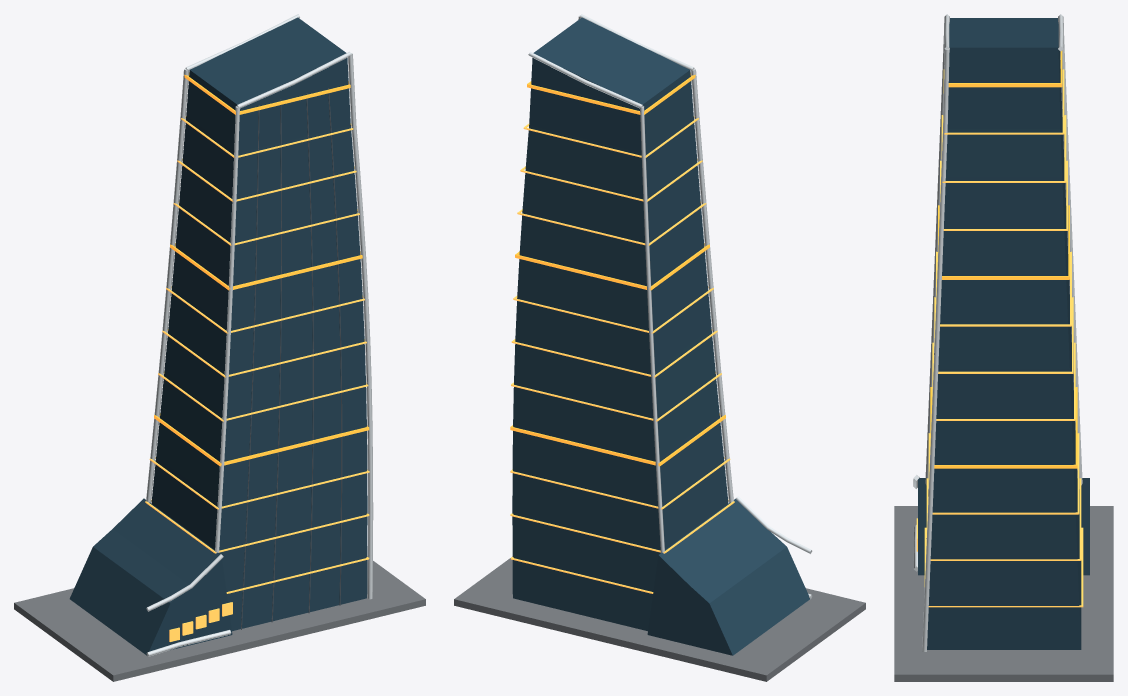
The model's file is Model_ Stage 06 .glb.
The picture shows the model from 3 angles, left to right: view 1: azimuth 30°, elevation 25°; view 2: azimuth 150°, elevation 25°; view 3: azimuth 270°, elevation 25°; orthographic projection. The views are drawn at different scales.
Visible parts, largest first — view 1: SailTowerGlassShell.002, SweepingPodiumGlass.003, SailFoundation.005, SignatureWhiteTowerRibbon.002, SailWarmFloorBands.002, FacadeMullions.002, SailSkyLobbyBands.002, PodiumWhiteRibbon.003, PodiumWindows.003; view 2: SailTowerGlassShell.002, SweepingPodiumGlass.003, SailFoundation.005, SignatureWhiteTowerRibbon.002, SailWarmFloorBands.002, SailSkyLobbyBands.002; view 3: SailTowerGlassShell.002, SailFoundation.005, SignatureWhiteTowerRibbon.002, SailWarmFloorBands.002, SailSkyLobbyBands.002, SweepingPodiumGlass.003.
Boxes of the visible parts, box(x1,y1,x2,y2) form: SailTowerGlassShell.002: box(151, 17, 367, 631); SweepingPodiumGlass.003: box(69, 498, 232, 655); SailFoundation.005: box(14, 560, 425, 681); SignatureWhiteTowerRibbon.002: box(146, 14, 373, 599); SailWarmFloorBands.002: box(145, 116, 369, 593); FacadeMullions.002: box(241, 88, 342, 629); SailSkyLobbyBands.002: box(154, 73, 369, 466); PodiumWhiteRibbon.003: box(146, 554, 231, 656); PodiumWindows.003: box(169, 602, 232, 641); SailTowerGlassShell.002: box(512, 17, 728, 631); SweepingPodiumGlass.003: box(647, 499, 809, 655); SailFoundation.005: box(454, 558, 865, 681); SignatureWhiteTowerRibbon.002: box(528, 14, 733, 553); SailWarmFloorBands.002: box(510, 116, 734, 593); SailSkyLobbyBands.002: box(510, 73, 725, 466); SailTowerGlassShell.002: box(927, 18, 1081, 649); SailFoundation.005: box(894, 506, 1113, 681); SignatureWhiteTowerRibbon.002: box(922, 14, 1082, 651); SailWarmFloorBands.002: box(924, 69, 1083, 607); SailSkyLobbyBands.002: box(930, 50, 1077, 468); SweepingPodiumGlass.003: box(918, 478, 1089, 575).
Size of the model in its own units: 20 by 33.59 by 11.
